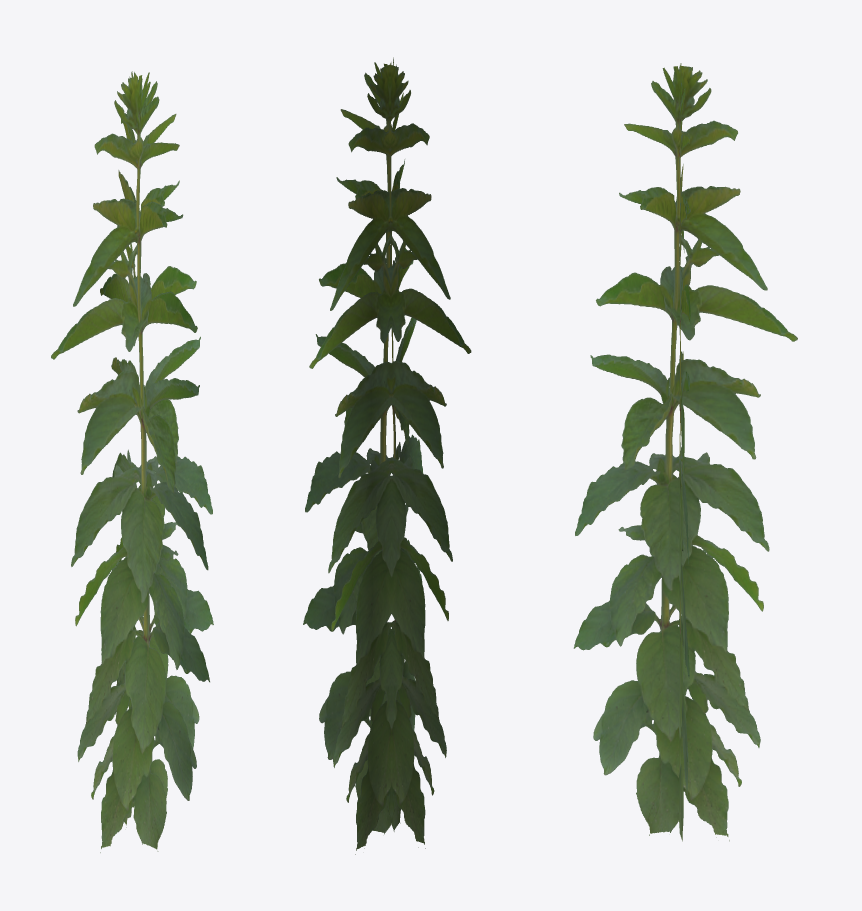
Rendered from StalkPlant_A.fbx.
The picture shows the model from 3 angles, left to right: view 1: azimuth 30°, elevation 25°; view 2: azimuth 150°, elevation 25°; view 3: azimuth 270°, elevation 25°; orthographic projection.
Visible parts, largest first — view 1: StalkPlant_A_LOD0; view 2: StalkPlant_A_LOD0; view 3: StalkPlant_A_LOD0.
Boxes of the visible parts, bbox=[...] form: StalkPlant_A_LOD0: bbox=[51, 71, 213, 852]; StalkPlant_A_LOD0: bbox=[303, 57, 471, 854]; StalkPlant_A_LOD0: bbox=[573, 63, 797, 841].
Size of what is drawn, in the model's own units: 33.32 by 107 by 39.08.
